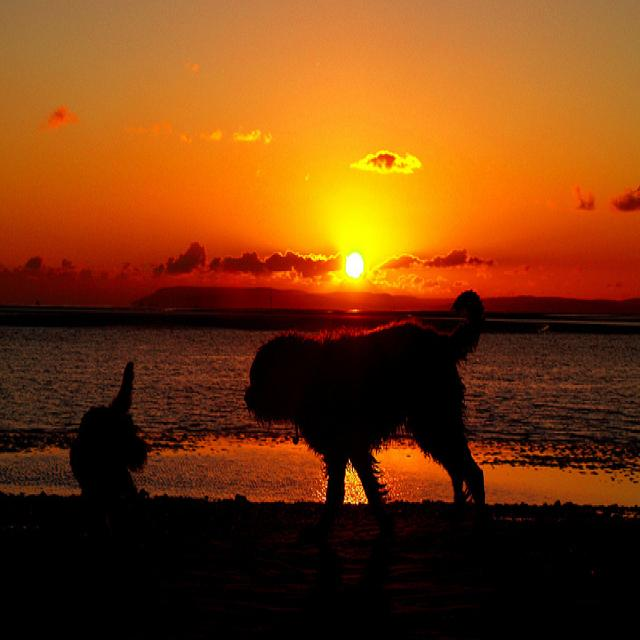dog: (231, 311, 527, 529), (67, 342, 174, 521)
